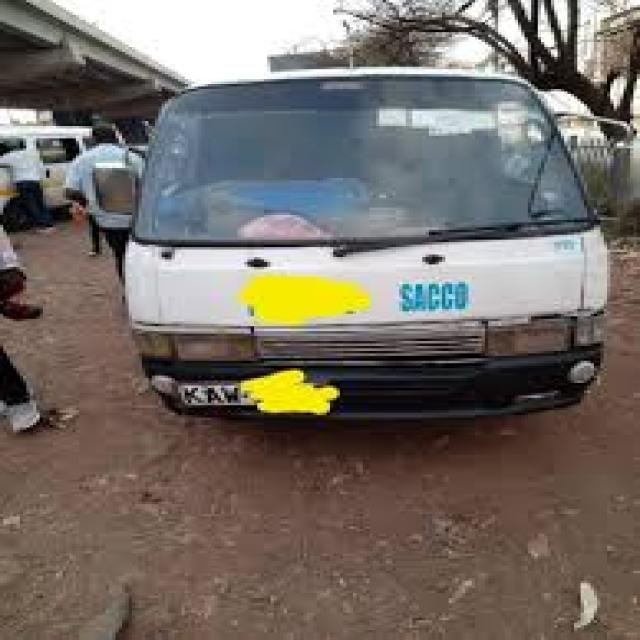matatu: (49, 17, 640, 465)
